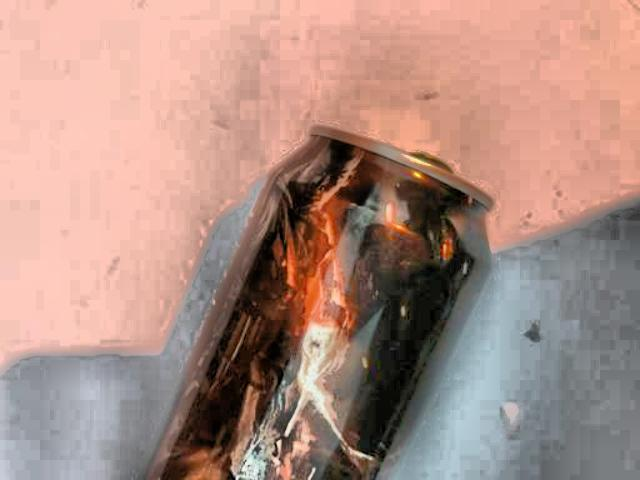Bottles: (14, 117, 519, 480)
